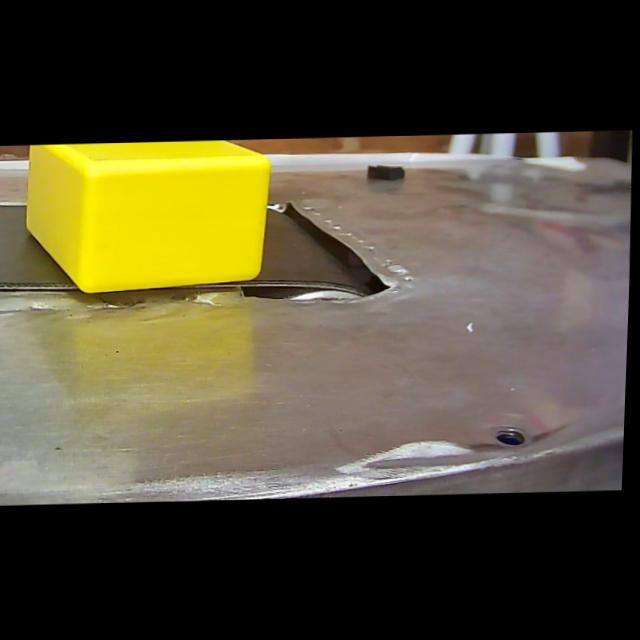yellowBox: (14, 139, 283, 301)
